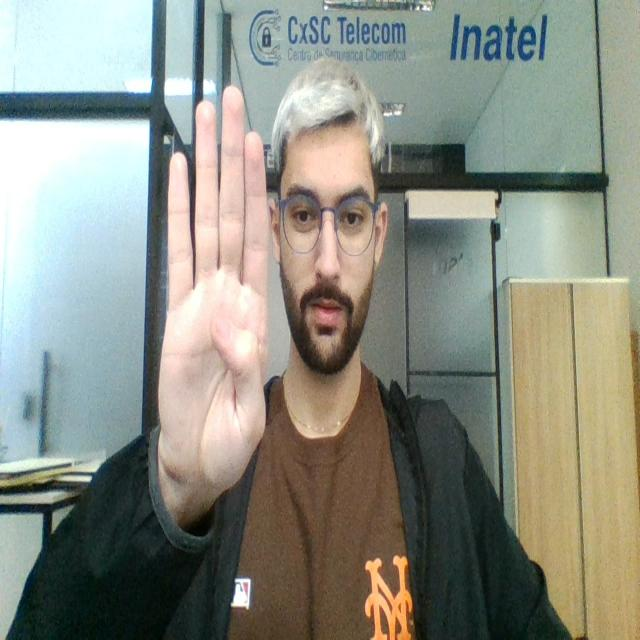B: (160, 82, 272, 500)
